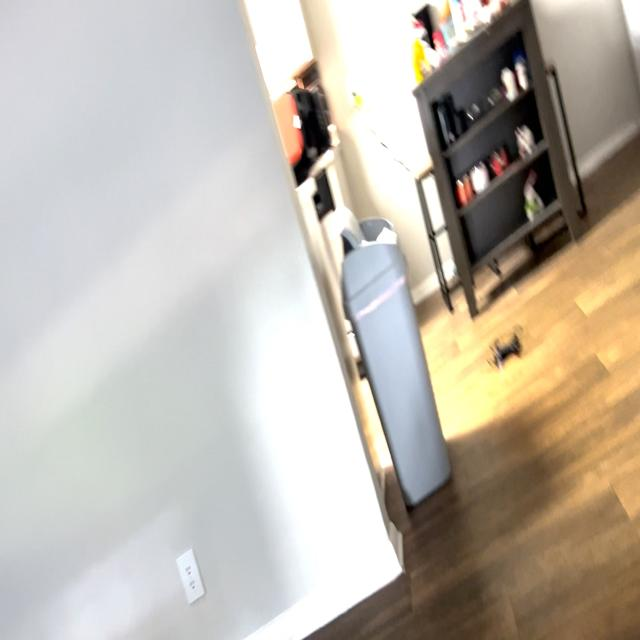drone: (482, 315, 529, 377)
